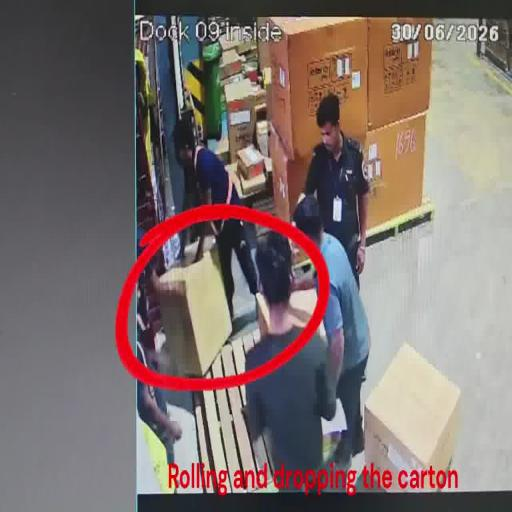carton: (256, 17, 368, 161), (364, 341, 462, 489), (146, 248, 232, 380), (362, 107, 428, 237), (366, 16, 434, 130), (266, 125, 316, 221), (226, 96, 256, 164), (240, 160, 271, 196), (222, 73, 258, 103), (236, 145, 266, 180)
pallet: (193, 320, 280, 492), (366, 204, 436, 251)
person: (242, 232, 338, 490), (292, 194, 372, 464), (174, 119, 260, 316), (294, 90, 370, 293), (137, 254, 185, 460)
